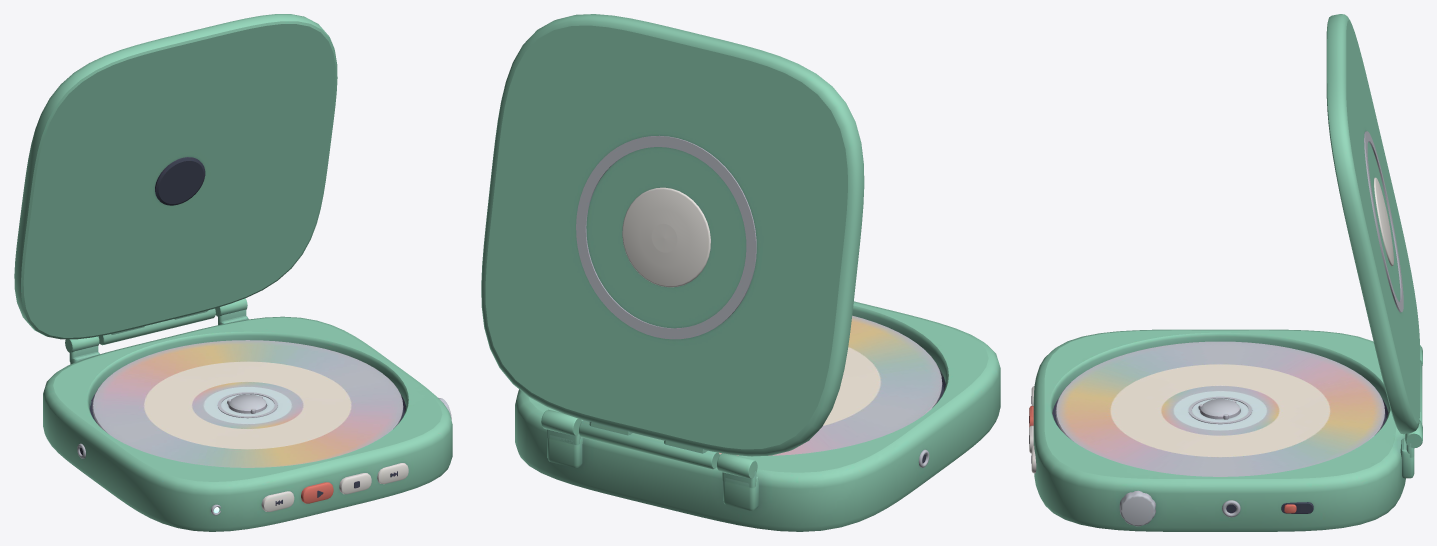
Rendered from collector-deck.glb.
The picture shows the model from 3 angles, left to right: view 1: azimuth 30°, elevation 25°; view 2: azimuth 150°, elevation 25°; view 3: azimuth 270°, elevation 25°; orthographic projection. The views are drawn at different scales.
Parts seen in each view (by area): view 1: cd-player_lid, cd-player_body; view 2: cd-player_lid, cd-player_body; view 3: cd-player_body, cd-player_lid.
Boxes of the visible parts, left/top/right/bottom form: cd-player_lid: left=14, top=14, right=337, bottom=345; cd-player_body: left=43, top=298, right=452, bottom=531; cd-player_lid: left=481, top=14, right=864, bottom=469; cd-player_body: left=515, top=301, right=1000, bottom=531; cd-player_body: left=1029, top=329, right=1422, bottom=531; cd-player_lid: left=1326, top=14, right=1422, bottom=434.
Bounding box in the file's own units: 0.1389 × 0.1619 × 0.1435.
3 materials, 2 textured.
